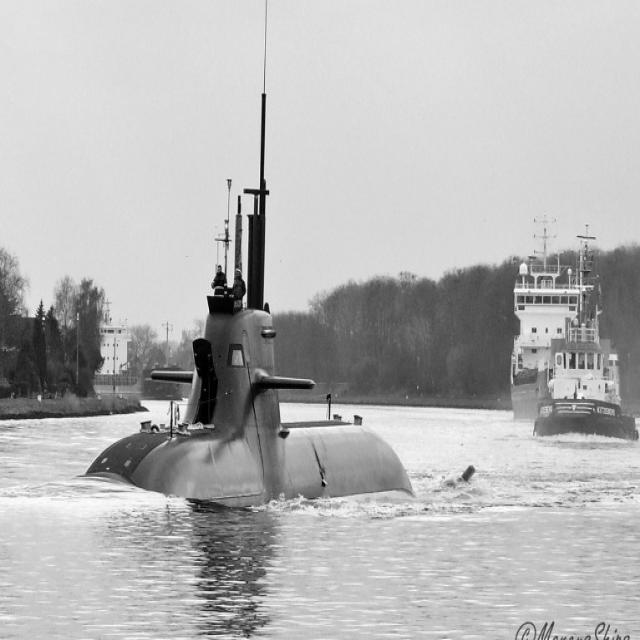submarine: (72, 1, 419, 504)
